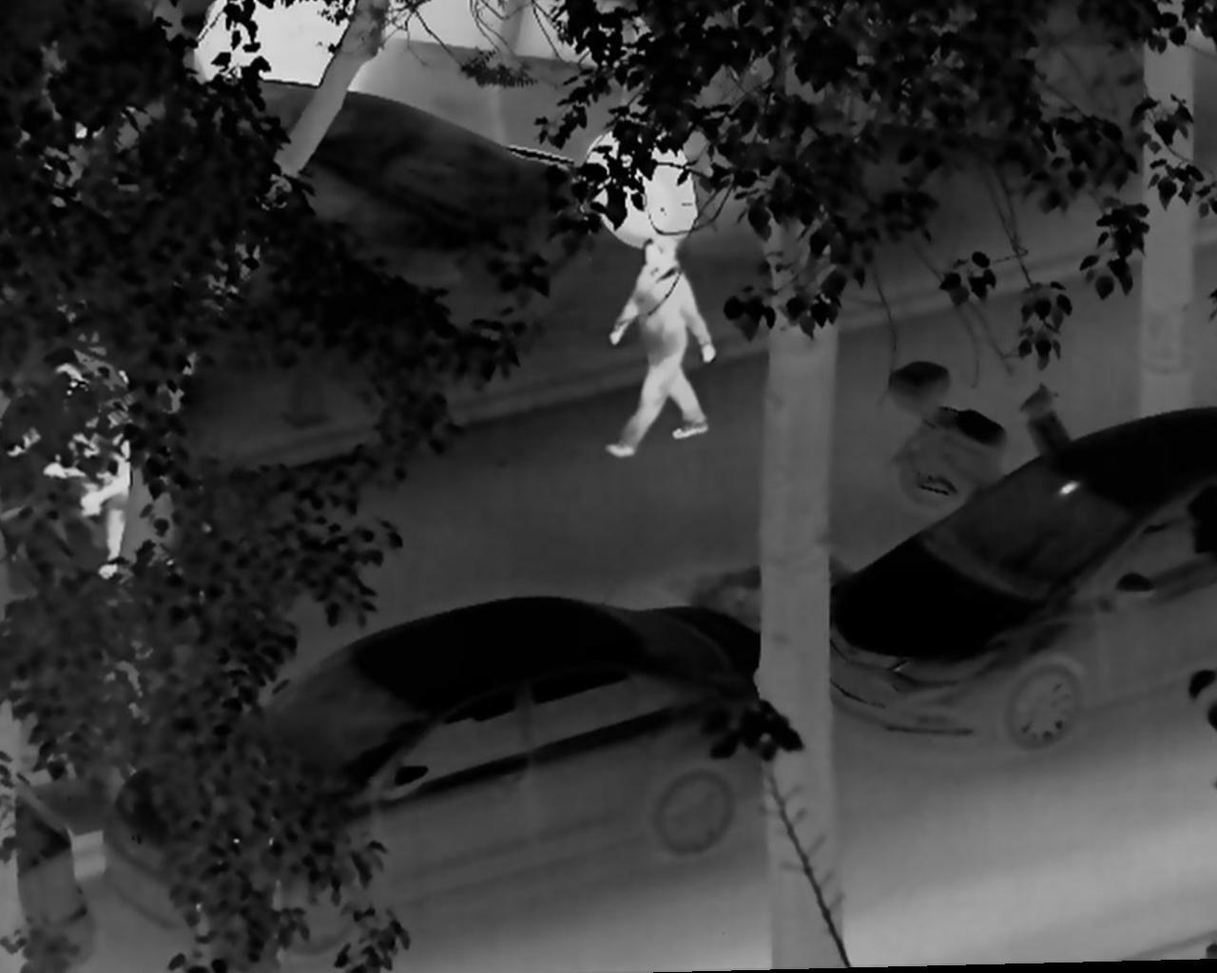person: (584, 230, 718, 464), (85, 383, 203, 601), (15, 361, 135, 544)
